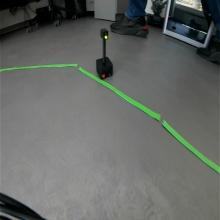green: (100, 27, 110, 41)
